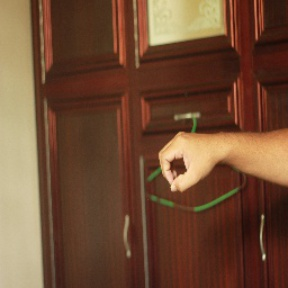O: (156, 126, 223, 195)
